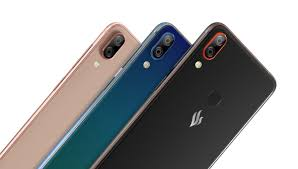vsmart: (79, 19, 280, 169)
